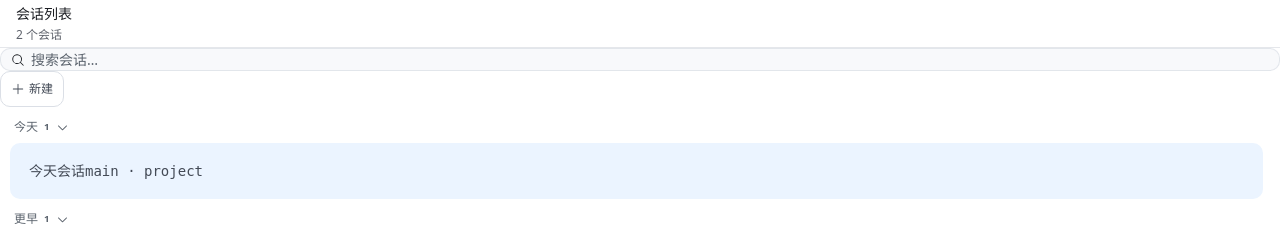
Test: SessionRail › 默认收起更早会话，搜索时自动展开历史分组
Expected: the text "历史会话" is not shown
Type "历史" into the field labelled "搜索会话" at (132, 60), box top-left (31, 49), bottom-right (233, 70)
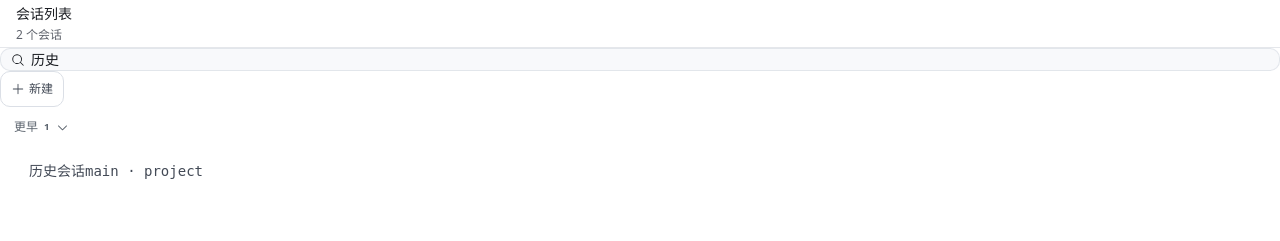
Expected: the button "更早 1" is expanded, top-left (10, 111), bottom-right (74, 143)
Expected: the text "历史会话" is shown, top-left (29, 161), bottom-right (85, 180)
